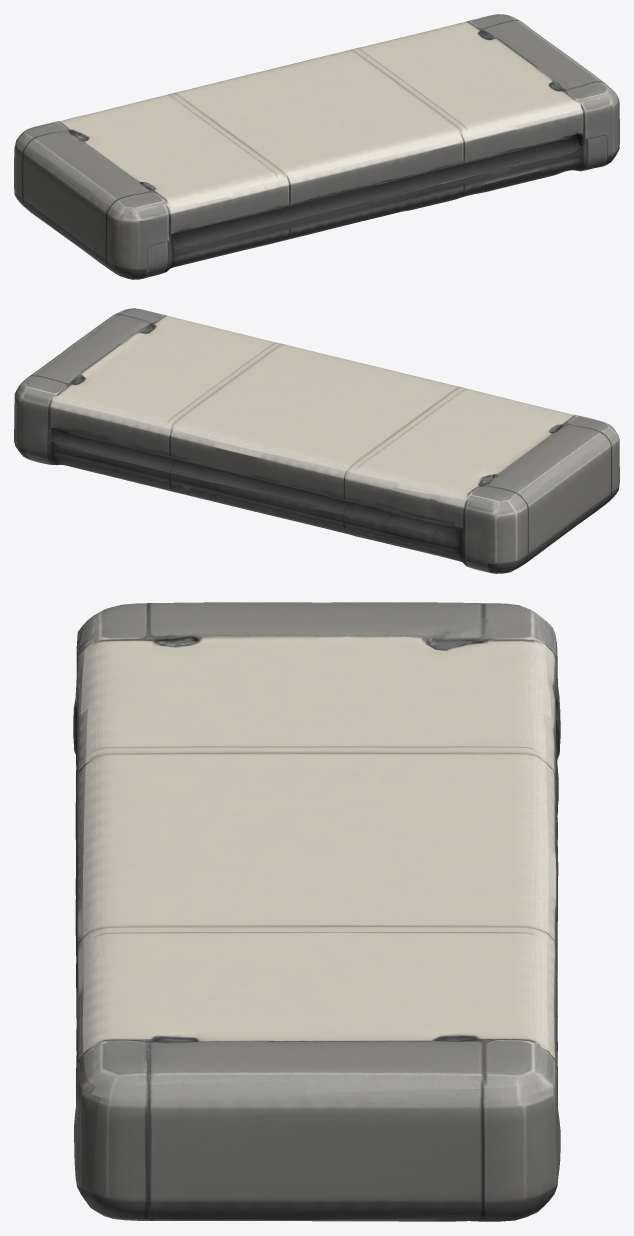
Rendered from observation-bench.glb.
The picture shows the model from 3 angles, top to bottom: view 1: azimuth 30°, elevation 25°; view 2: azimuth 150°, elevation 25°; view 3: azimuth 270°, elevation 25°; orthographic projection. The views are drawn at different scales.
Visible parts, largest first — view 1: Mesh0; view 2: Mesh0; view 3: Mesh0.
Part boxes in pixels (x1,y1,x2,y2): Mesh0: [14, 14, 619, 279]; Mesh0: [14, 308, 619, 573]; Mesh0: [73, 602, 560, 1221].
Size of the model in its own units: 2 by 0.2842 by 0.8347.
1 material, 1 textured.
